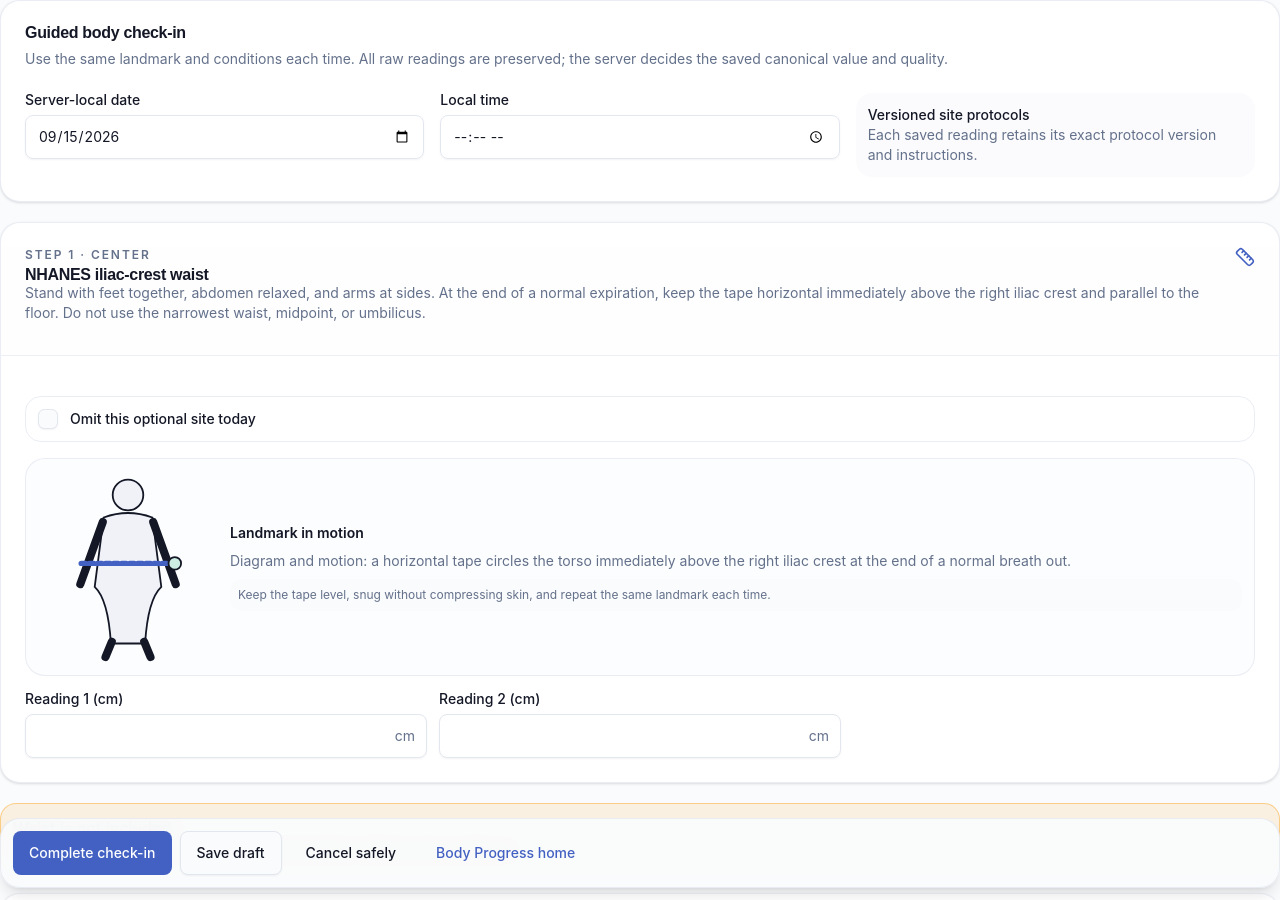
GuidedCheckInForm › preserves input and offers the existing record on duplicate-date 409
Step 1. Type "84.0" into the number field labelled "Reading 1 (cm)" → [226, 736], box left=25, top=714, right=427, bottom=758
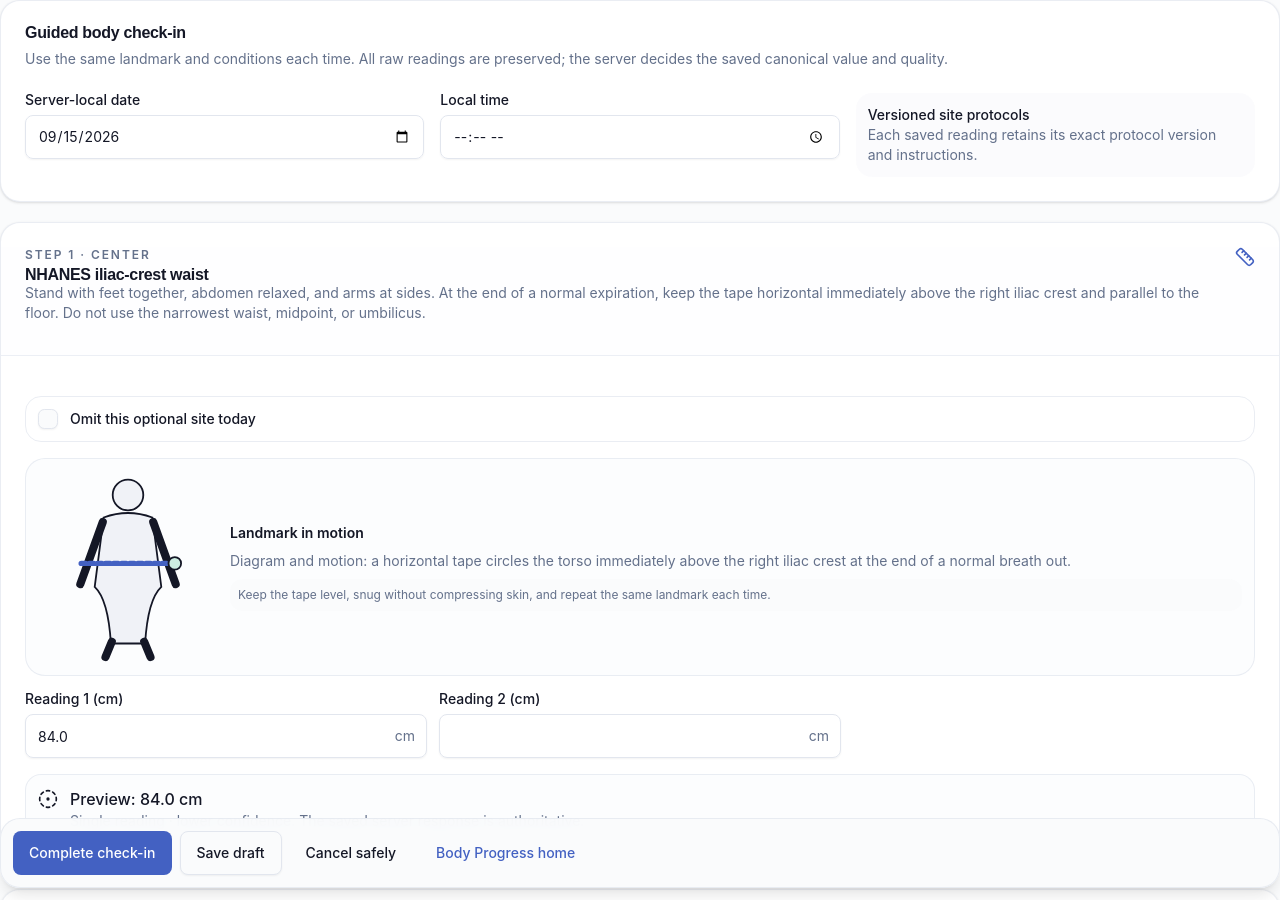
Step 2. Click the button "Complete check-in" → [92, 853], box left=13, top=831, right=172, bottom=875
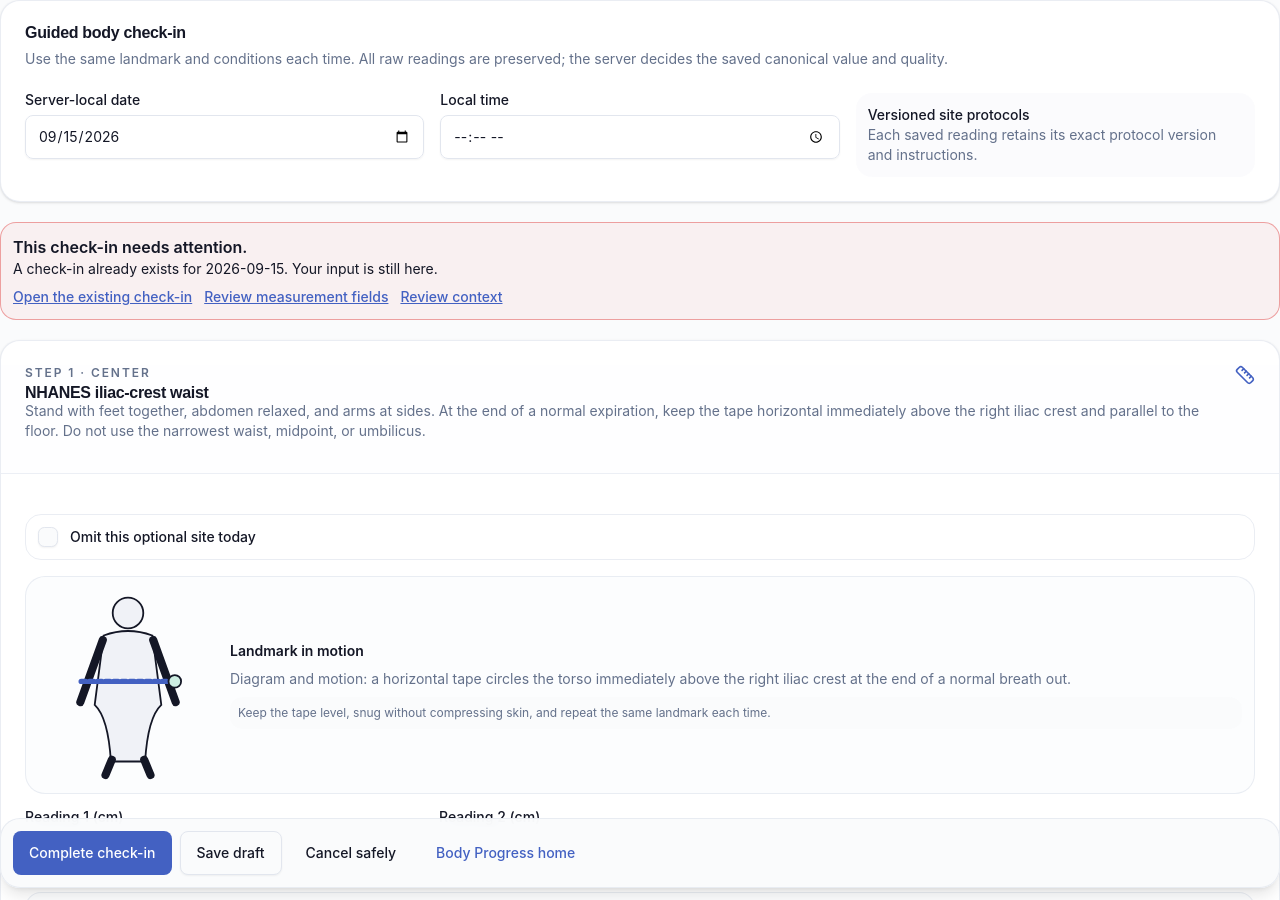
Result: the message shows "Your input is still here" at left=13, top=260, right=438, bottom=277
